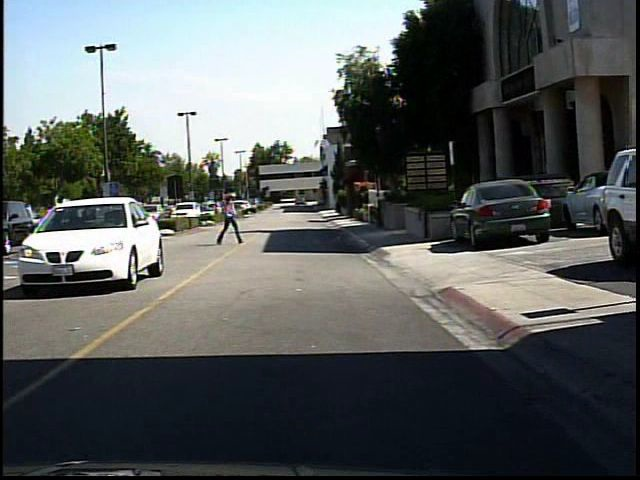person: (213, 188, 243, 248)
